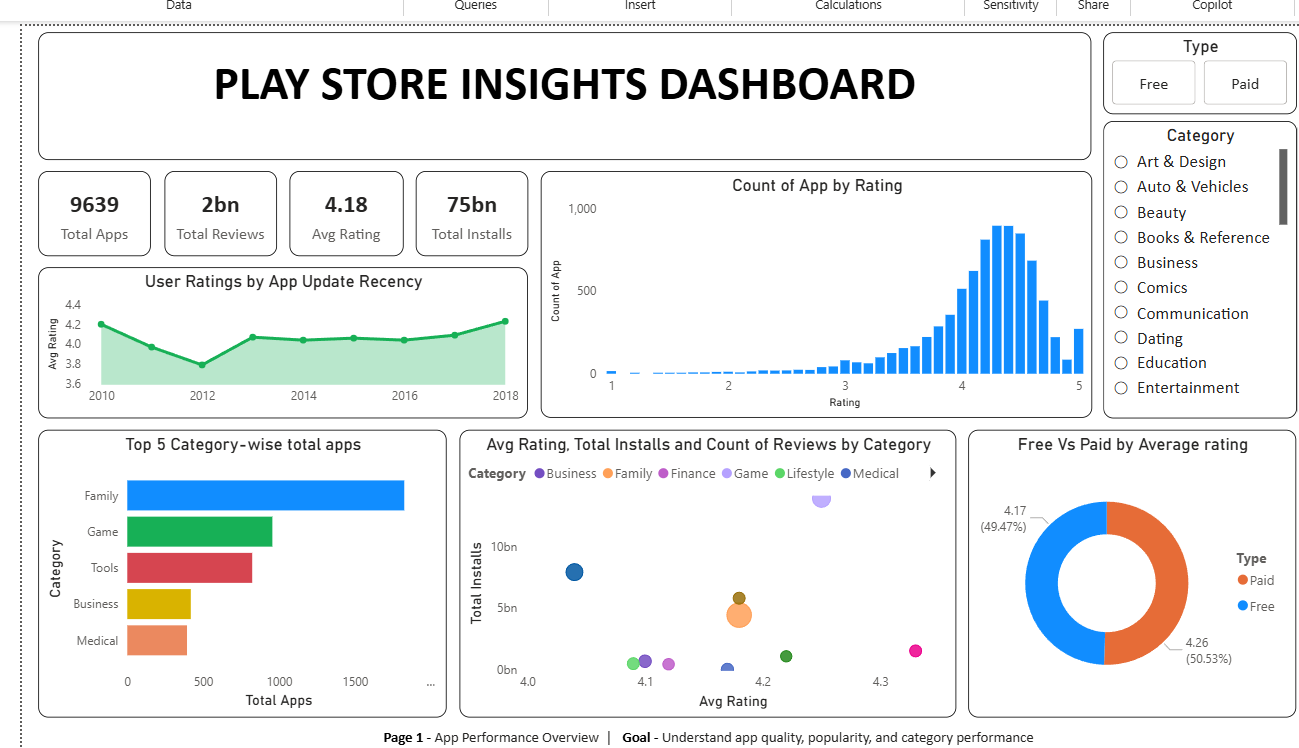

Layout of this report page (visuals, bound fields, positions):
{"tool":"powerbi","page":{"name":"Page 1 - App Performance Overview","canvas":[1280,720],"ordinal":0},"visuals":[{"type":"card","fields":{"Values":["Play_Store_Data.Total Apps"]},"box":[16.7,144.1,112.3,84.9],"z":0},{"type":"textbox","box":[16.7,6.1,1048.2,127.4],"z":1000},{"type":"textbox","box":[356.5,697.8,652.3,22.8],"z":2000},{"type":"card","fields":{"Values":["Play_Store_Data.Total Installs"]},"box":[391.4,144.1,112.3,84.9],"z":3000},{"type":"card","fields":{"Values":["Play_Store_Data.Average Rating"]},"box":[266.2,144.3,113.2,84.6],"z":4000},{"type":"card","fields":{"Values":["Play_Store_Data.Total Reviews"]},"box":[141.8,144.3,112,84.6],"z":5000},{"type":"barChart","title":"Top 5 Category-wise total apps","fields":{"Category":["Play_Store_Data.Category"],"Y":["Play_Store_Data.Total Apps"]},"box":[16.7,402,406.5,286.7],"z":6000},{"type":"clusteredColumnChart","fields":{"Y":["CountNonNull(Play_Store_Data.App)"],"Category":["Play_Store_Data.Rating"]},"box":[515.8,144.1,549.1,245.7],"z":7000},{"type":"scatterChart","fields":{"X":["Play_Store_Data.Avg Rating"],"Y":["Play_Store_Data.Total Installs"],"Size":["CountNonNull(Play_Store_Data.Reviews)"],"Series":["Play_Store_Data.Category"]},"box":[435.4,401.8,496.3,287.4],"z":8000},{"type":"donutChart","title":"Free Vs Paid by Average rating","fields":{"Category":["Play_Store_Data.Type"],"Y":["Play_Store_Data.Avg Rating"]},"box":[942,402,326.1,286.7],"z":9000},{"type":"lineChart","title":"User Ratings by App Update Recency","fields":{"Category":["Play_Store_Data.Last Updated.Variation.Date Hierarchy.Year","Play_Store_Data.Last Updated.Variation.Date Hierarchy.Quarter"],"Y":["Play_Store_Data.Avg Rating"]},"box":[16.7,239.7,486.9,150.2],"z":10000},{"type":"listSlicer","fields":{"Values":["Play_Store_Data.Category"]},"box":[1075.5,94.1,192.7,295.8],"z":11000},{"type":"advancedSlicerVisual","fields":{"Values":["Play_Store_Data.Type"]},"box":[1075.5,6.1,192.7,81.9],"z":12000}]}

Visuals, with their boxes in screenshot pixels (x1, y1, x2, y2):
card - Play_Store_Data.Total Apps: [x1=37, y1=168, x2=149, y2=253]
textbox: [x1=37, y1=30, x2=1086, y2=157]
textbox: [x1=377, y1=722, x2=1030, y2=745]
card - Play_Store_Data.Total Installs: [x1=412, y1=168, x2=524, y2=253]
card - Play_Store_Data.Average Rating: [x1=287, y1=168, x2=400, y2=253]
card - Play_Store_Data.Total Reviews: [x1=162, y1=168, x2=274, y2=253]
"Top 5 Category-wise total apps" barChart: [x1=37, y1=426, x2=444, y2=713]
clusteredColumnChart - CountNonNull(Play_Store_Data.App) x Play_Store_Data.Rating: [x1=537, y1=168, x2=1086, y2=414]
scatterChart - Play_Store_Data.Avg Rating x Play_Store_Data.Total Installs: [x1=456, y1=426, x2=953, y2=713]
"Free Vs Paid by Average rating" donutChart: [x1=963, y1=426, x2=1289, y2=713]
"User Ratings by App Update Recency" lineChart: [x1=37, y1=264, x2=524, y2=414]
listSlicer - Play_Store_Data.Category: [x1=1097, y1=118, x2=1290, y2=414]
advancedSlicerVisual - Play_Store_Data.Type: [x1=1097, y1=30, x2=1290, y2=112]
